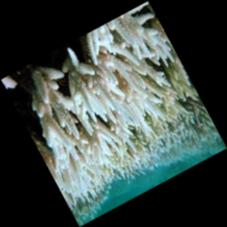bleached_corals: (0, 1, 223, 223)
